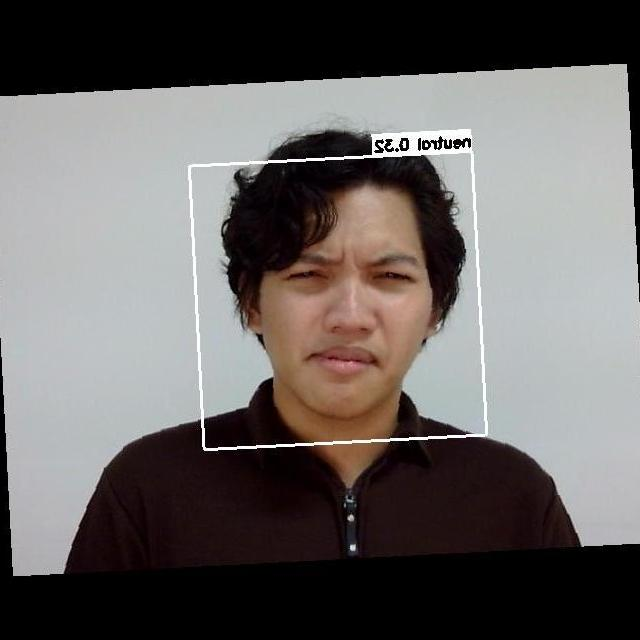Disgust: (252, 228, 434, 396)
